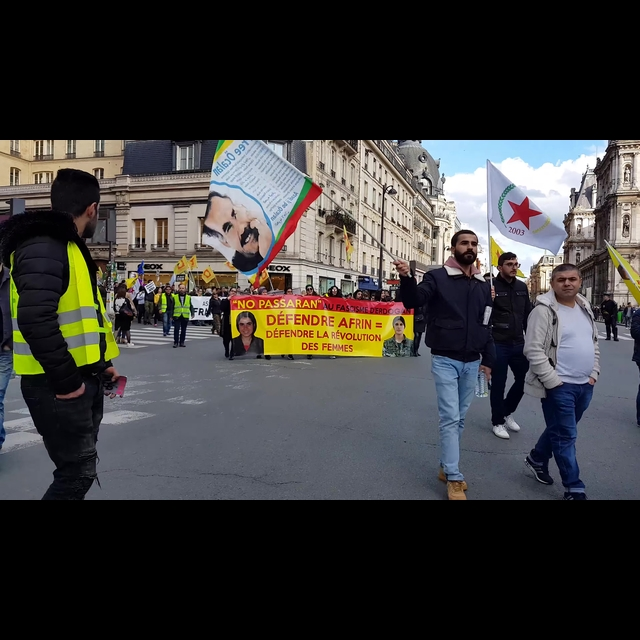APO: (200, 199, 267, 254)
